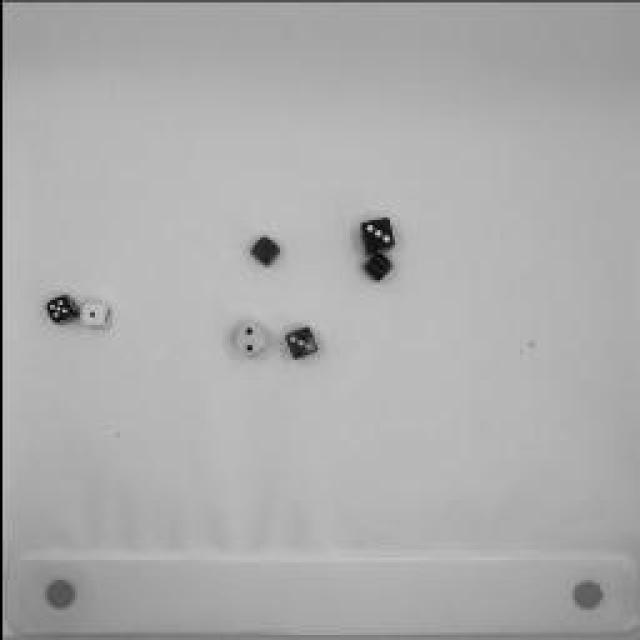dice_1: (74, 299, 114, 331)
dice_2: (230, 318, 270, 362)
dice_3: (279, 318, 321, 364), (352, 213, 398, 255)
dice_4: (240, 232, 285, 266)
dice_5: (43, 290, 75, 330)
dice_6: (353, 252, 395, 282)
